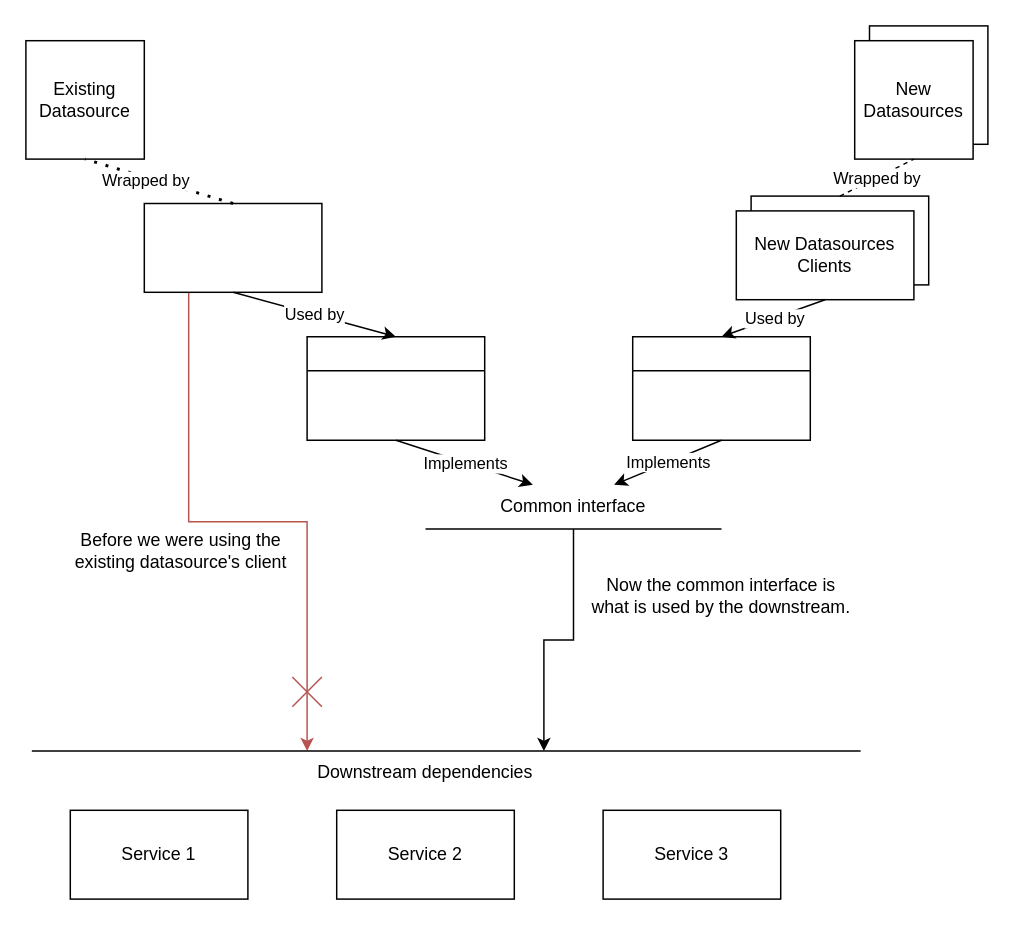
Image size: 1014x925. Some labels were removed from this diagram. The shapes that lost their labels are listed below. From the top down, each one's centre as x and y in pixels, then its label:
(x=232, y=247): Existing Datasource Client
(x=395, y=387): Adapter 1
(x=720, y=387): Adapter 2
